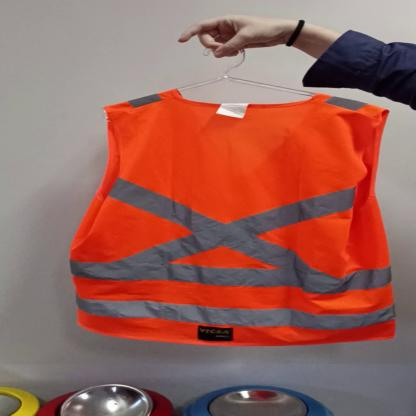colete: (64, 84, 400, 345)
